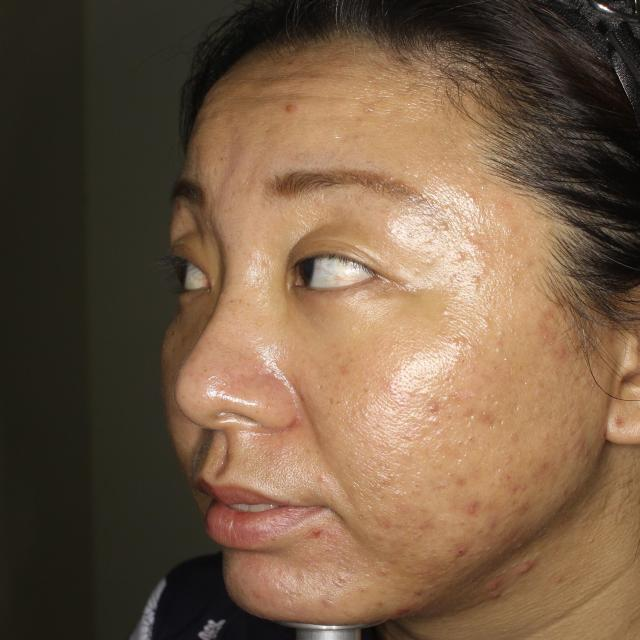pustule: (473, 577, 513, 606), (531, 306, 557, 339), (451, 543, 489, 562), (461, 408, 492, 429), (526, 455, 554, 478), (462, 492, 484, 520), (512, 554, 534, 577), (572, 438, 592, 462), (419, 396, 438, 419), (486, 509, 502, 535), (516, 494, 534, 514)
